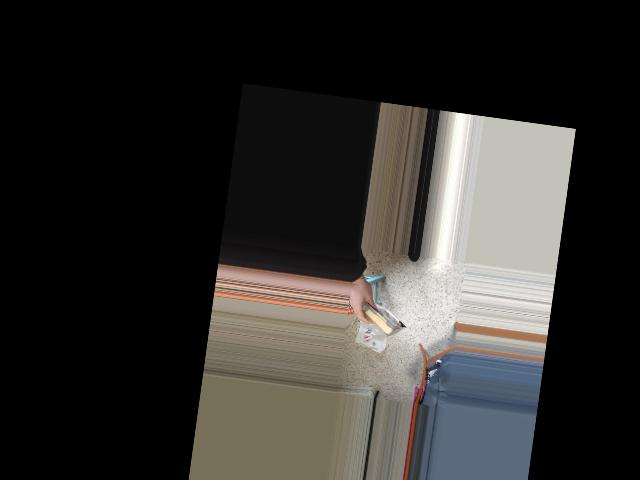cheese: (347, 295, 409, 339)
